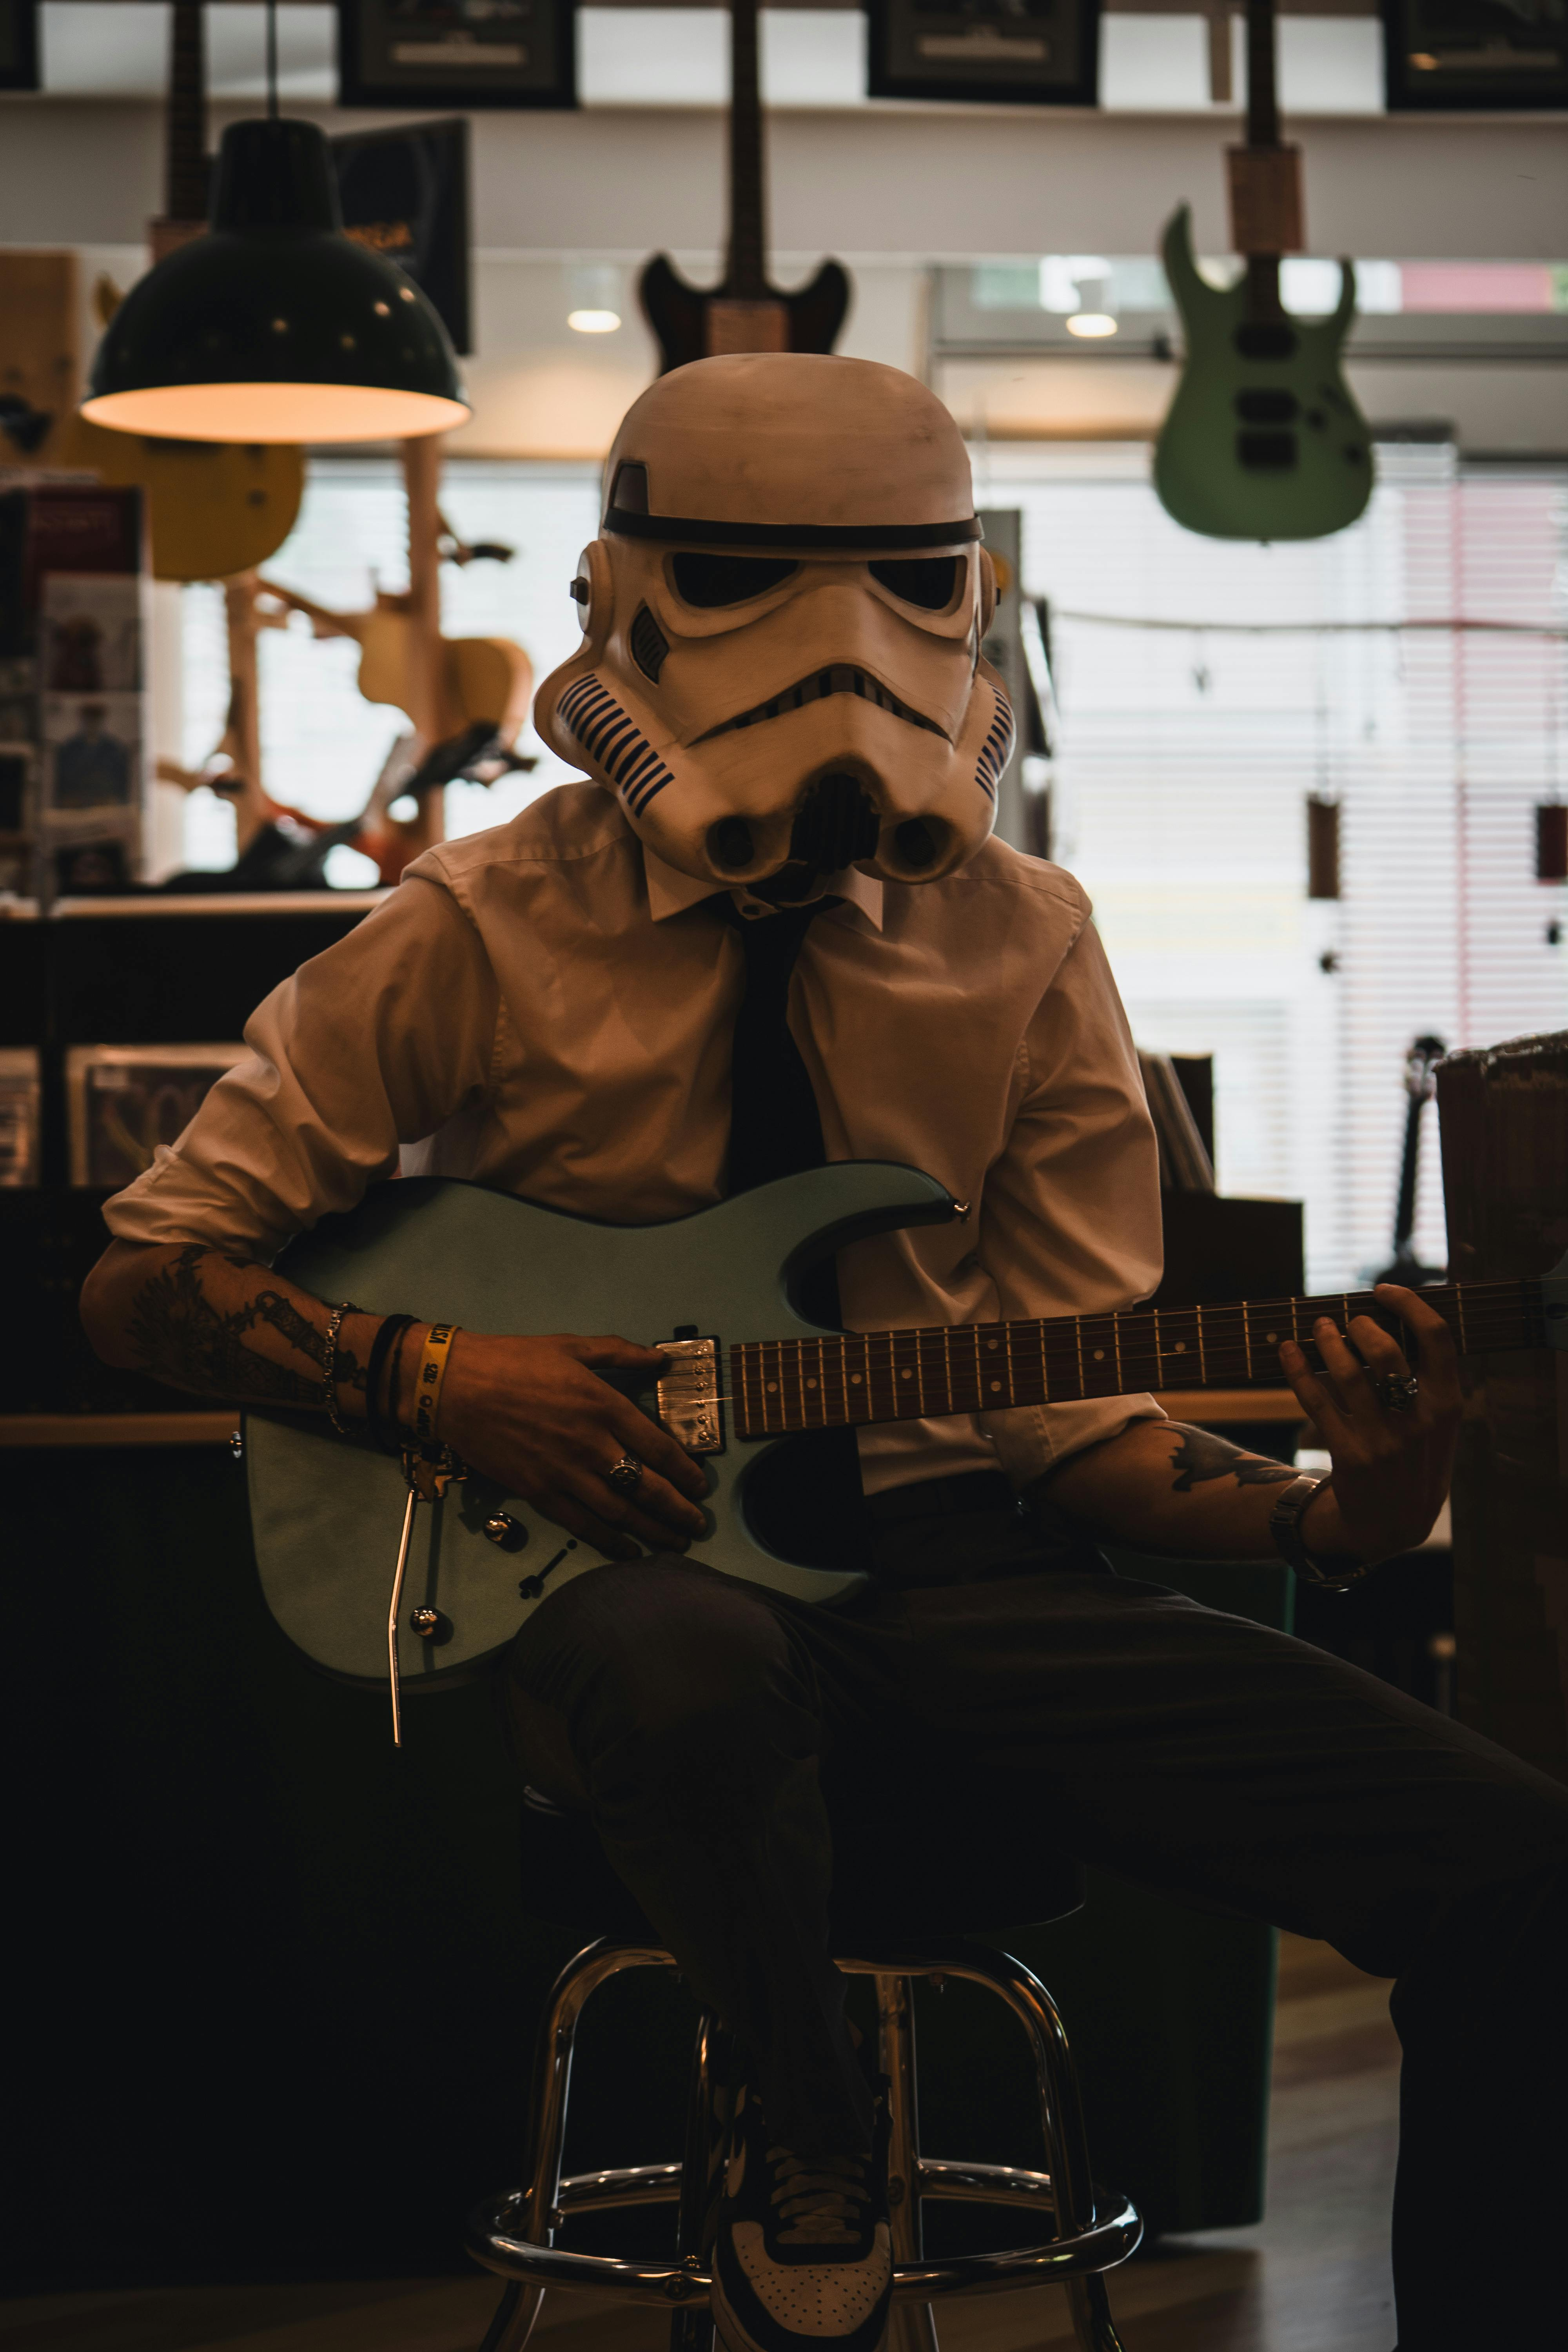capacete: (523, 339, 1022, 896)
